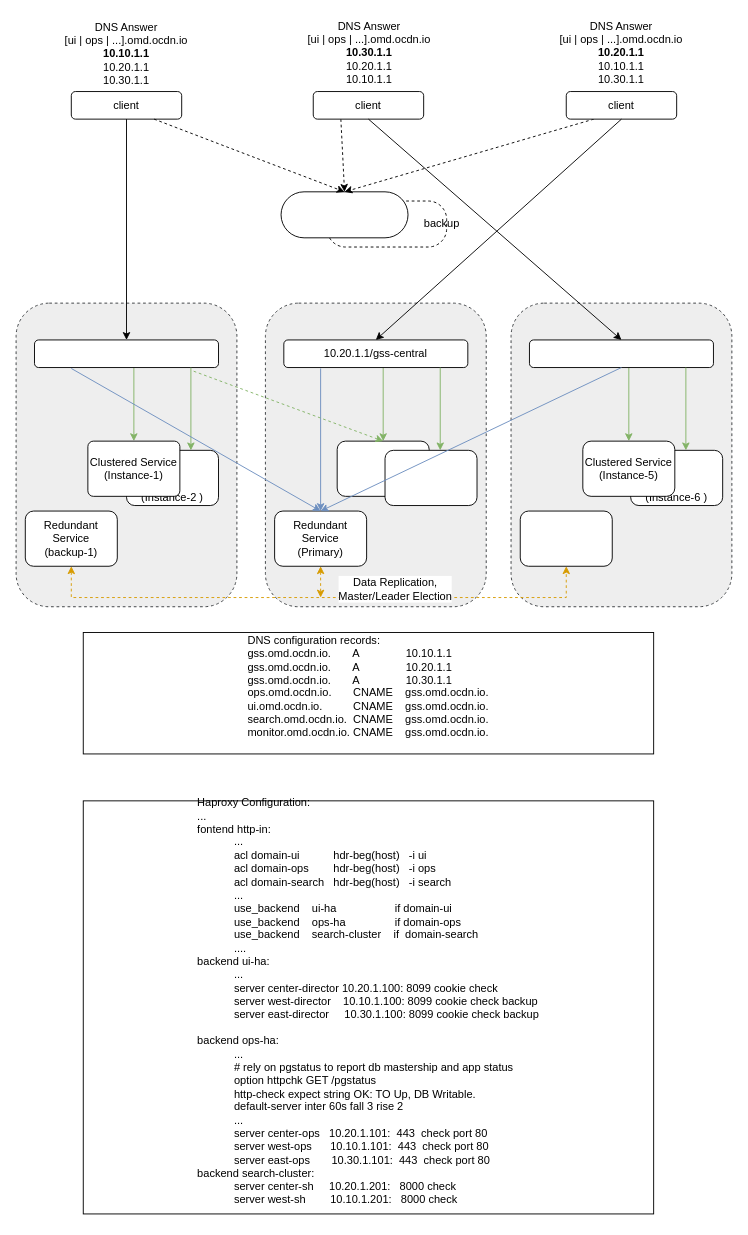
Some shapes in this 748 by 1235 pixel diagram are drawn without their labels. The centre of each missing label's shape, as x and y in pixels:
"(Instance-4 )" belongs at pixel 430 477.
"10.10.1.1/gss-west" belongs at pixel 126 353.
"10.30.1.1/gss-east" belongs at pixel 621 353.
"Clustered Service (Instance-3)" belongs at pixel 382 468.
"DNS" belongs at pixel 344 214.
"Redundant Service (backup-2)" belongs at pixel 565 538.
